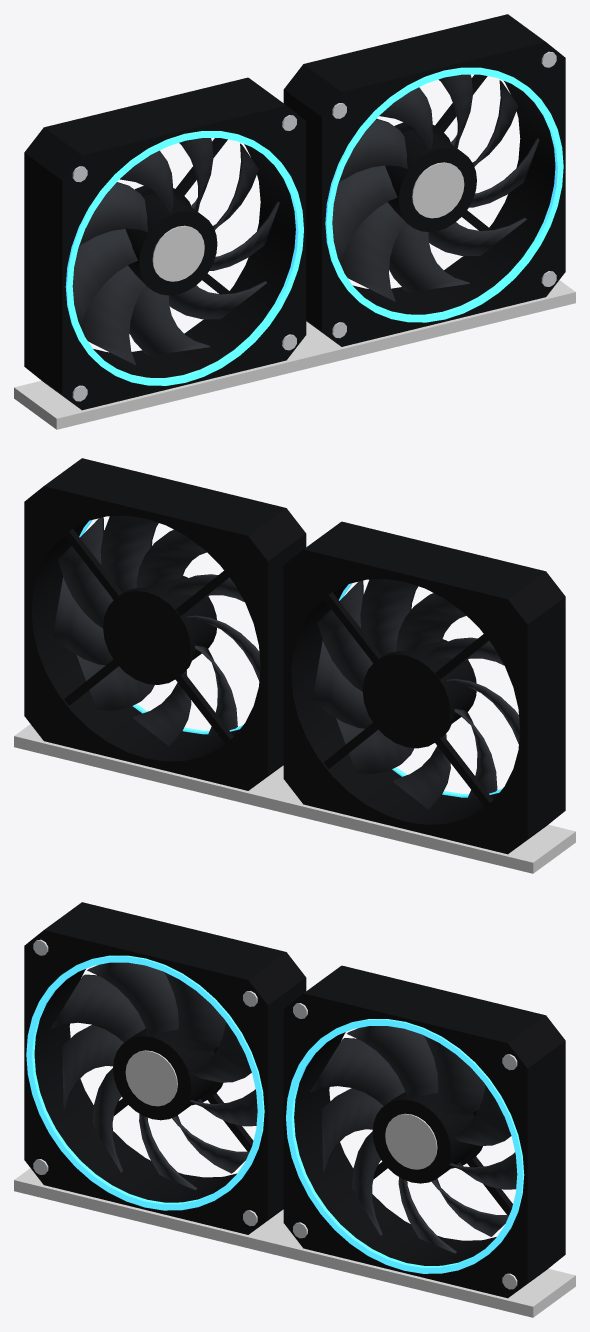
Rendered from hw_cool_dual_92mm.glb.
3 renders of one model, top to bottom at view 1: azimuth 30°, elevation 25°; view 2: azimuth 150°, elevation 25°; view 3: azimuth 330°, elevation 25°, orthographic.
Visible parts, largest first — view 1: Body, Rotor_Z_0, Rotor_Z_1; view 2: Body, Rotor_Z_0, Rotor_Z_1; view 3: Body, Rotor_Z_0, Rotor_Z_1.
Boxes of the visible parts, x1,y1,x2,y2 form: Body: (14,14,575,429); Rotor_Z_0: (72,138,279,365); Rotor_Z_1: (332,74,539,301); Body: (14,458,575,873); Rotor_Z_0: (312,579,520,809); Rotor_Z_1: (53,515,260,745); Body: (14,902,575,1317); Rotor_Z_0: (50,962,257,1189); Rotor_Z_1: (310,1026,517,1253).
Bounding box in the file's own units: 0.196 × 0.096 × 0.028.
